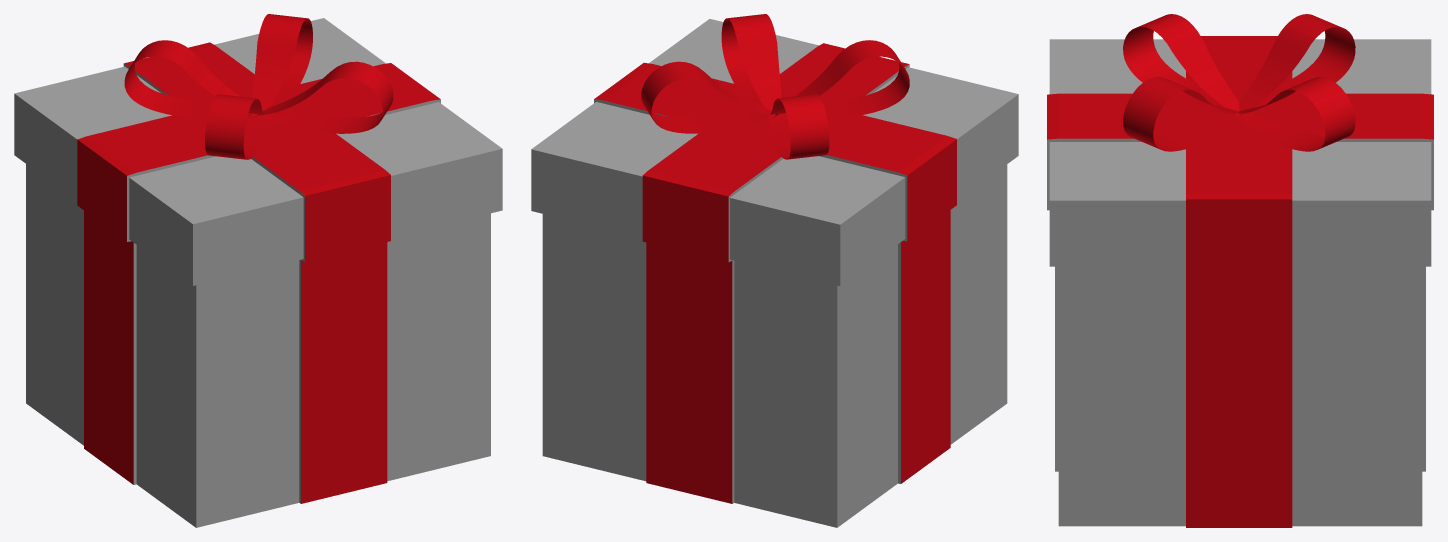
File: Present Small Red.glb
3 views of the same model, side by side, from view 1: azimuth 30°, elevation 25°; view 2: azimuth 150°, elevation 25°; view 3: azimuth 270°, elevation 25° (orthographic). The views are drawn at different scales.
Visible parts, largest first — view 1: Cube, BézierCircle.001, BézierCircle.003, BézierCircle, BézierCircle.004; view 2: Cube, BézierCircle, BézierCircle.004, BézierCircle.001, BézierCircle.003; view 3: Cube, BézierCircle.003, BézierCircle.004, BézierCircle.001, BézierCircle.
Part boxes in pixels (x1,y1,x2,y2): Cube: (14,18,502,527); BézierCircle.001: (253,14,312,110); BézierCircle.003: (124,40,258,118); BézierCircle: (258,61,393,133); BézierCircle.004: (205,94,264,159); Cube: (531,19,1018,527); BézierCircle: (721,14,781,110); BézierCircle.004: (776,40,909,118); BézierCircle.001: (641,61,776,133); BézierCircle.003: (769,94,829,159); Cube: (1047,36,1433,527); BézierCircle.003: (1239,14,1355,113); BézierCircle.004: (1123,14,1239,113); BézierCircle.001: (1236,77,1355,151); BézierCircle: (1123,77,1242,151).
Bounding box in the file's own units: 0.4257 × 0.4805 × 0.4257.
